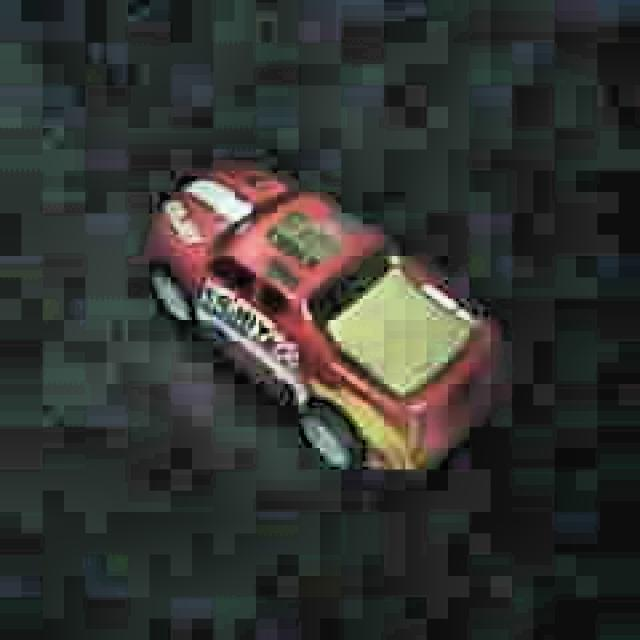car: (139, 157, 504, 485)
